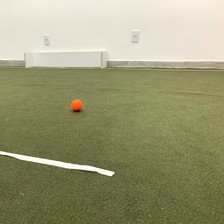ball: (68, 96, 84, 112)
goal: (22, 49, 108, 70)
